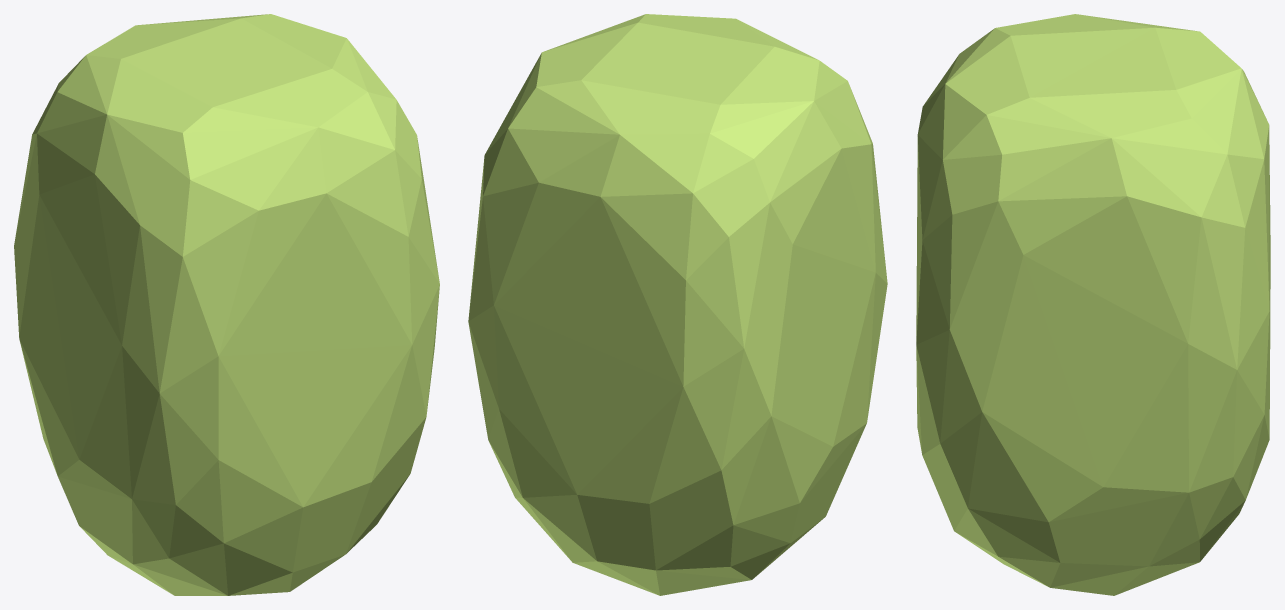
File: Bush_a_m_01.fbx
3 renders of one model, left to right at view 1: azimuth 30°, elevation 25°; view 2: azimuth 150°, elevation 25°; view 3: azimuth 270°, elevation 25°, orthographic.
Parts seen in each view (by area): view 1: Bush_a_m_01; view 2: Bush_a_m_01; view 3: Bush_a_m_01.
Boxes of the visible parts, x1=… form: Bush_a_m_01: x1=14, y1=14, x2=439, y2=595; Bush_a_m_01: x1=468, y1=14, x2=887, y2=595; Bush_a_m_01: x1=916, y1=14, x2=1270, y2=595.
Size of the model in its own units: 122 by 200 by 125.
